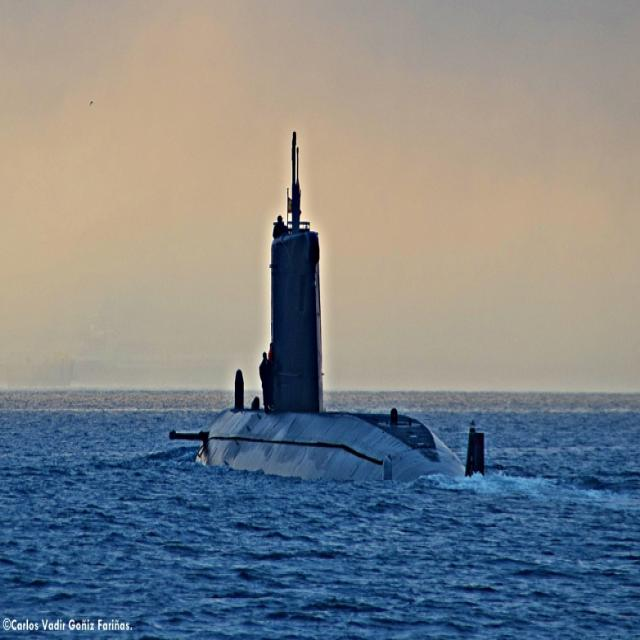submarine: (179, 216, 495, 486)
